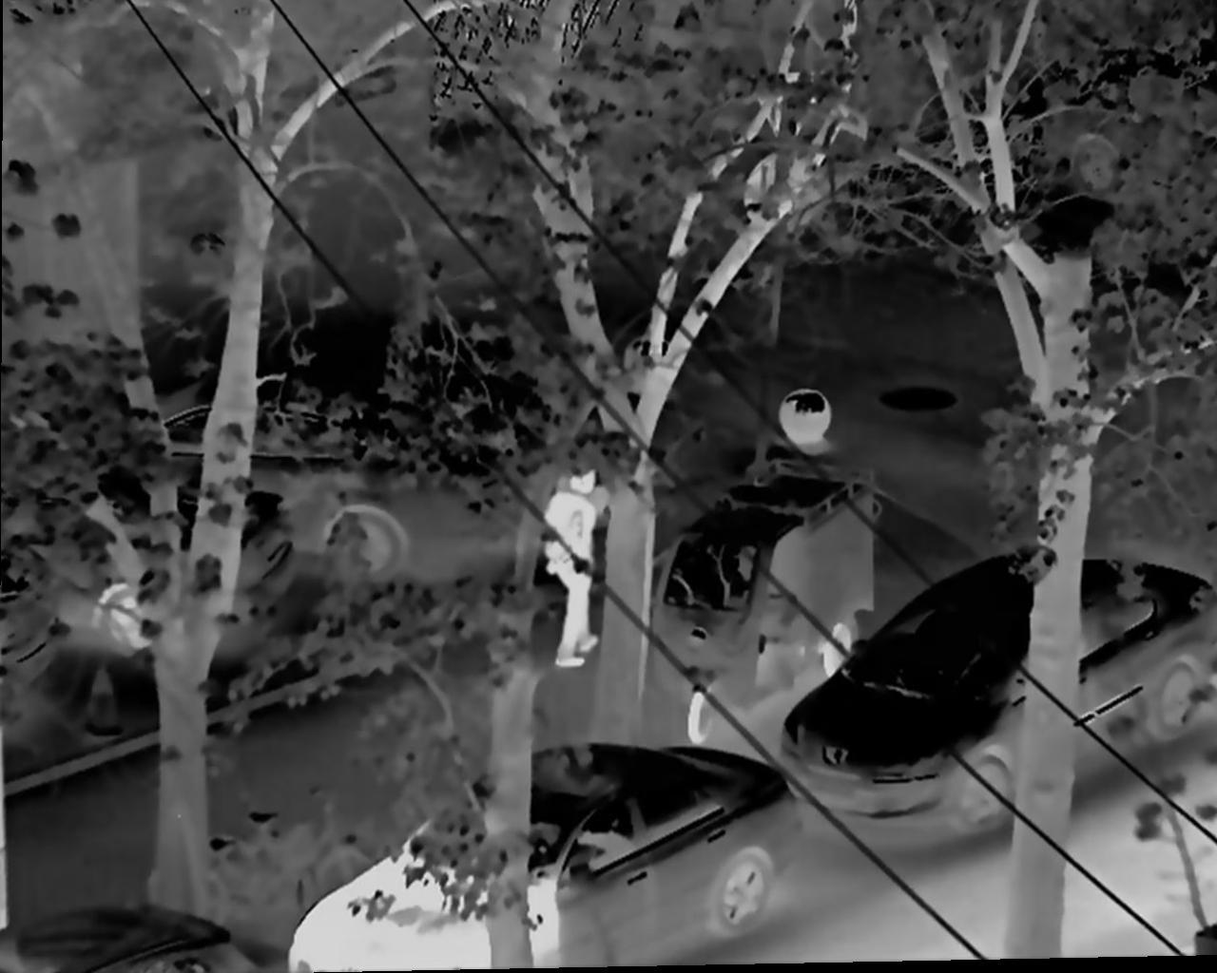person: (538, 465, 602, 677)
